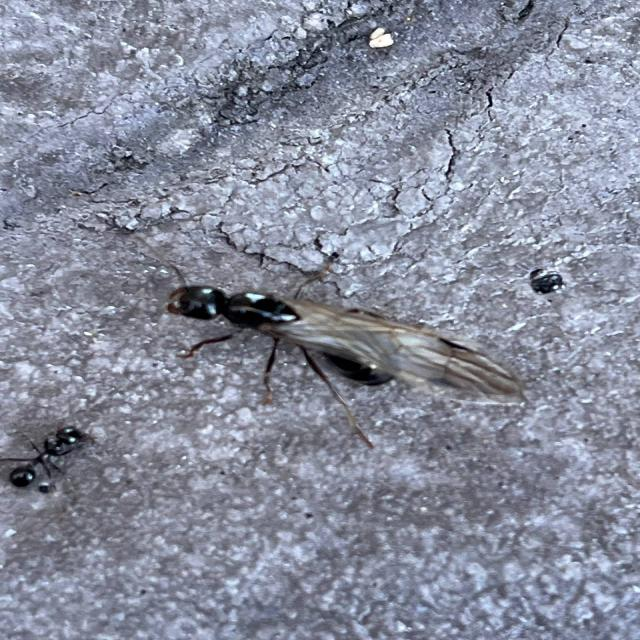Minor: (0, 418, 97, 492)
Princess: (162, 263, 522, 440)
